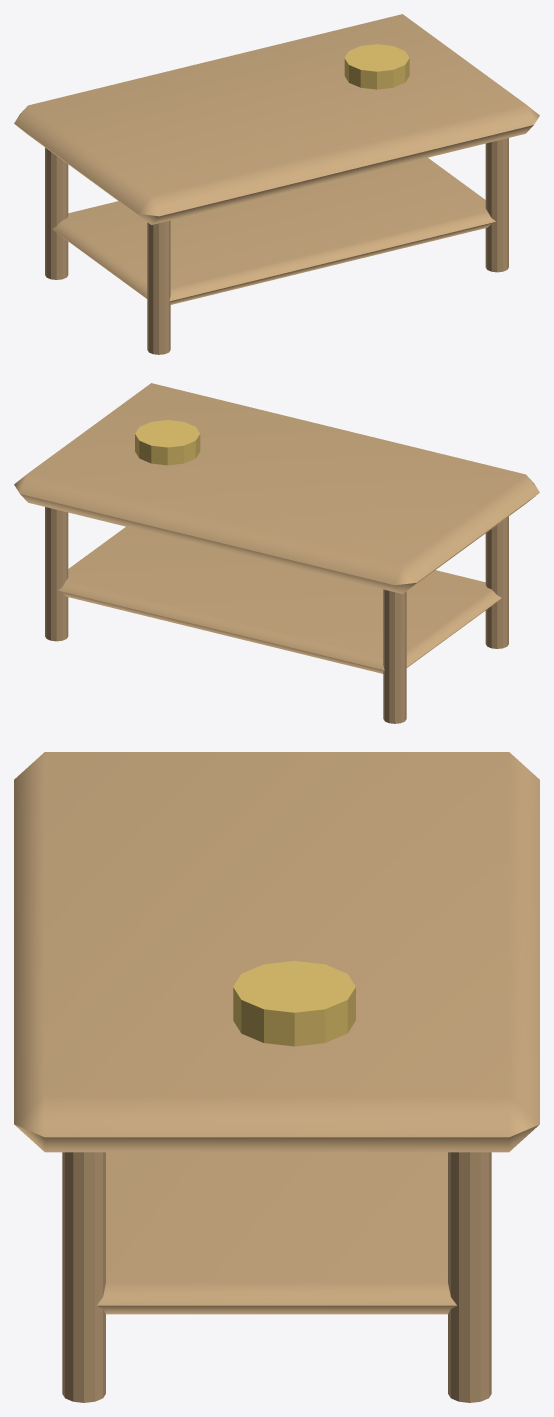
Rendered from coffee.glb.
3 views of the same model, one above another, from view 1: azimuth 30°, elevation 25°; view 2: azimuth 150°, elevation 25°; view 3: azimuth 270°, elevation 25° (orthographic). The views are drawn at different scales.
Parts seen in each view (by area): view 1: top, shelf, leg, leg.002, leg.001, tray; view 2: top, shelf, leg.001, leg.003, leg, tray; view 3: top, shelf, leg.002, leg.003, tray.
Part boxes in pixels (bbox=[...]): top: bbox=[14, 14, 539, 224]; shelf: bbox=[52, 157, 495, 304]; leg: bbox=[147, 220, 170, 354]; leg.002: bbox=[485, 138, 508, 272]; leg.001: bbox=[45, 147, 68, 279]; tray: bbox=[344, 44, 409, 89]; top: bbox=[14, 383, 539, 593]; shelf: bbox=[58, 526, 501, 673]; leg.001: bbox=[383, 589, 406, 723]; leg.003: bbox=[45, 507, 68, 641]; leg: bbox=[485, 516, 508, 648]; tray: bbox=[135, 420, 200, 465]; top: bbox=[14, 752, 539, 1152]; shelf: bbox=[96, 1152, 457, 1314]; leg.002: bbox=[62, 1152, 105, 1402]; leg.003: bbox=[448, 1152, 491, 1402]; tray: bbox=[233, 961, 355, 1046].
Size of the model in its own units: 1 by 0.4375 by 0.6.
